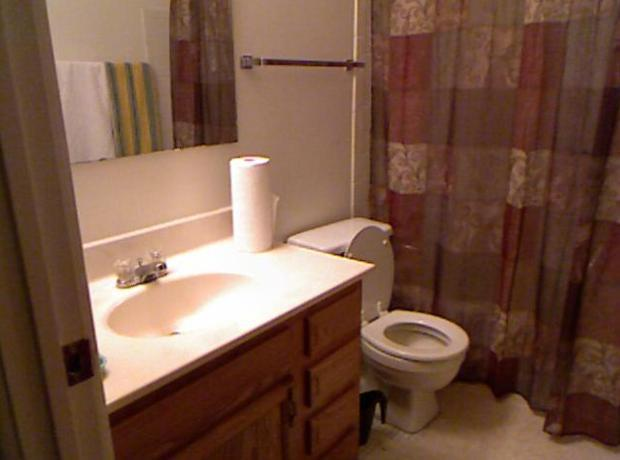Ducha: (374, 3, 617, 439)
Lavamanos: (102, 247, 266, 356)
Sanitario: (287, 208, 481, 443)
